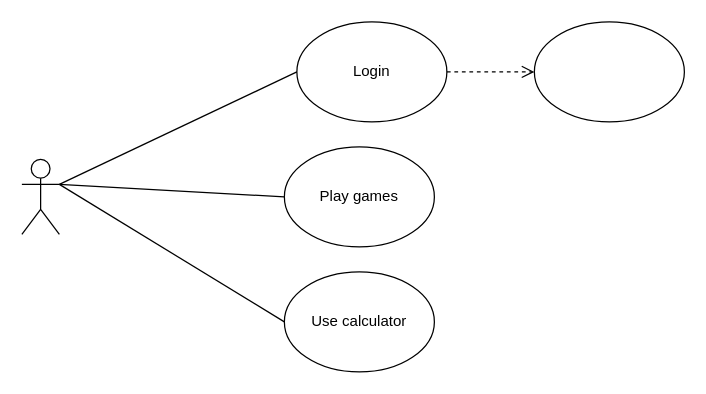
This 706x394 diagram has some shape labels left out. Each missing label, with the box of its shape:
User: (21, 158, 59, 234)
Verify credentials: (533, 21, 684, 122)
